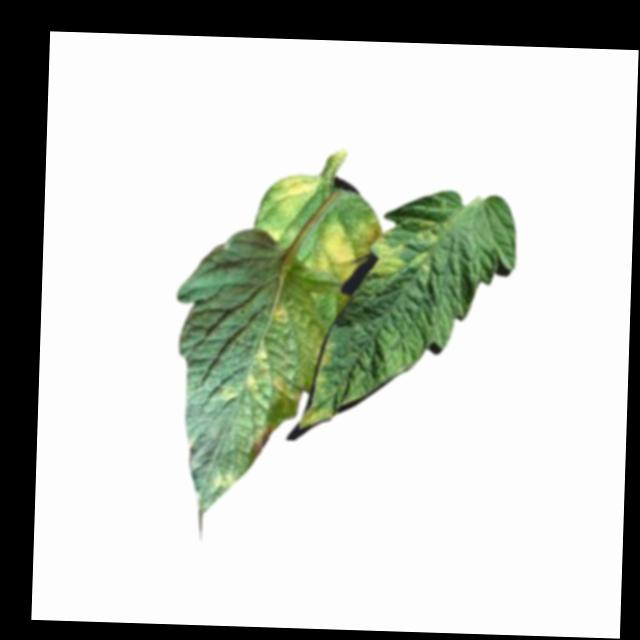Leaf_Mold: (305, 223, 378, 288), (370, 232, 437, 278), (240, 338, 291, 398), (274, 173, 323, 217), (249, 420, 277, 465), (272, 303, 292, 326)
